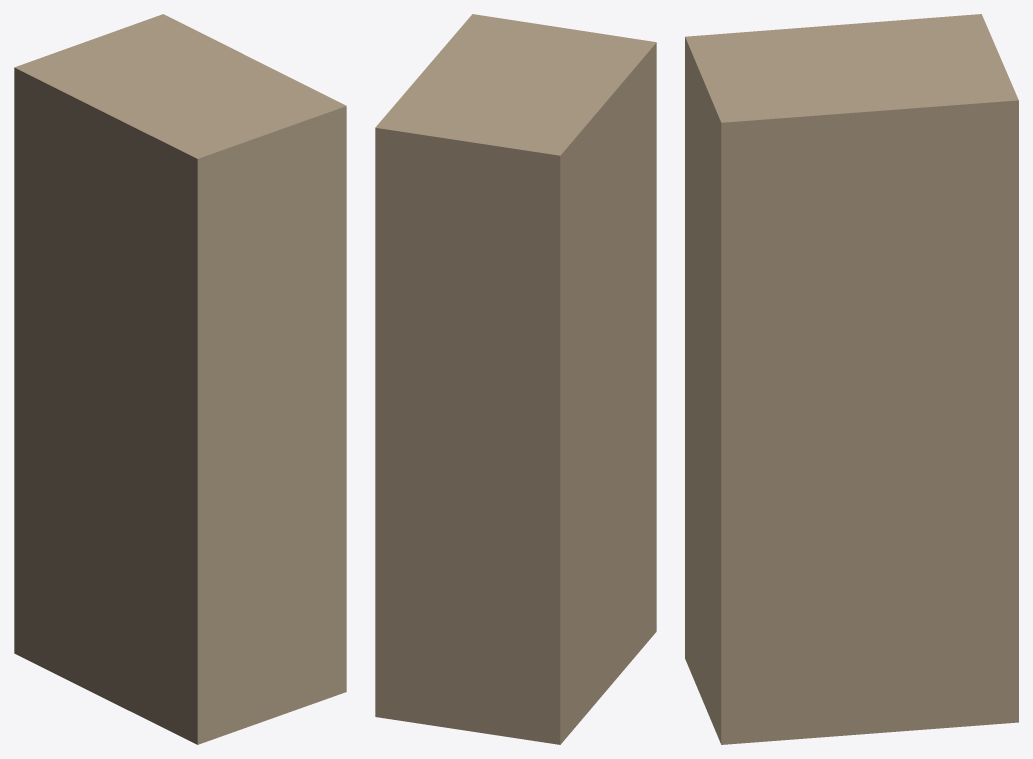
The model's file is bld_393484298.dae.
The picture shows the model from 3 angles, left to right: view 1: azimuth 30°, elevation 25°; view 2: azimuth 150°, elevation 25°; view 3: azimuth 270°, elevation 25°; orthographic projection. The views are drawn at different scales.
Visible parts, largest first — view 1: bld_393484298; view 2: bld_393484298; view 3: bld_393484298.
Part boxes in pixels (<box>): bld_393484298: <box>14,14,346,744</box>; bld_393484298: <box>375,14,656,744</box>; bld_393484298: <box>685,14,1018,744</box>.
Bounding box in the file's own units: 3 × 3.89 × 8.
